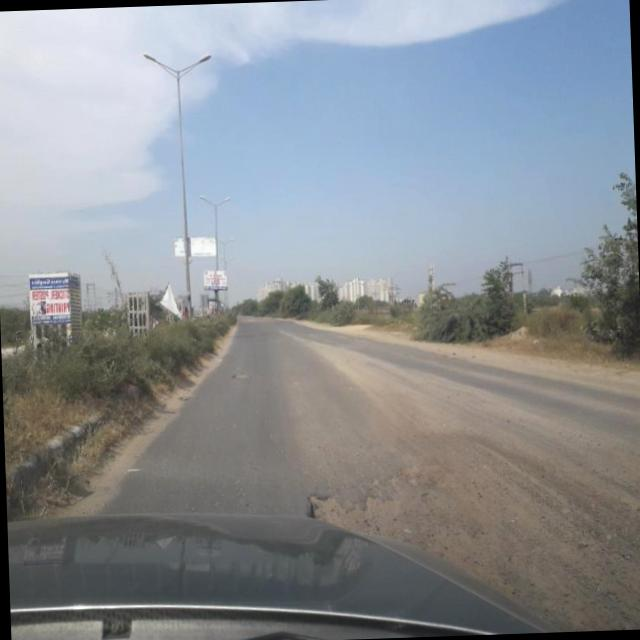pothole: (285, 391, 640, 640), (232, 362, 252, 386)
